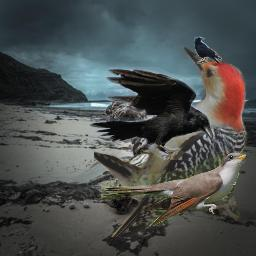Crow: (86, 67, 214, 160), (194, 36, 222, 64)
Cuckoo: (101, 152, 246, 226)
Woodpecker: (94, 45, 253, 237)
